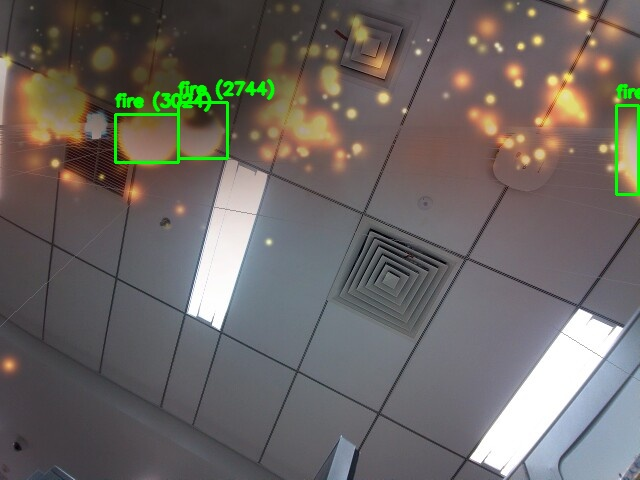fire: (115, 114, 178, 162), (178, 102, 227, 158), (616, 105, 638, 194)
